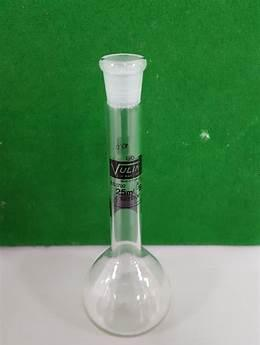Volumetric flask: (70, 26, 172, 340)
